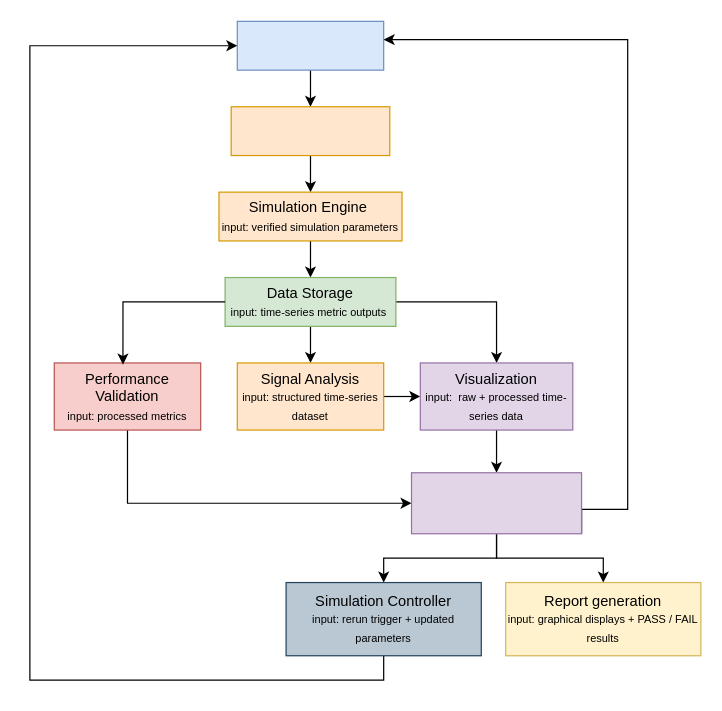
Some shapes in this 722 by 711 pixel diagram are drawn without their labels. The shapes that lost their labels are listed below. From the top down, each one's centre as x and y in pixels, then its label:
point (310, 45): User Interface
point (310, 131): Input Validation input: user defined parameters
point (496, 503): UI Feedback input: PASS / FAIL results + graphical displays
